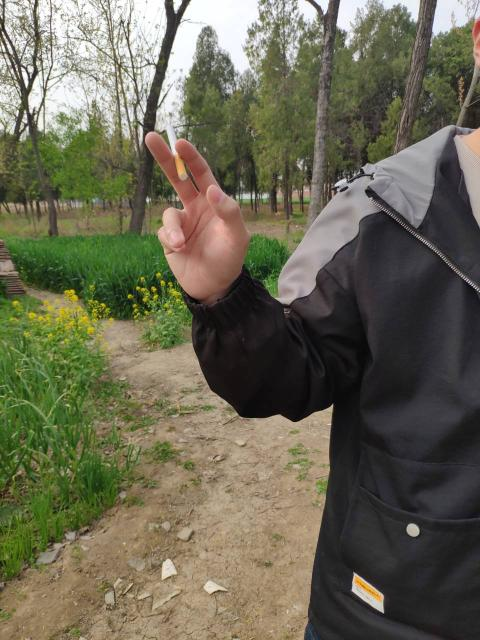Cigarette: (144, 89, 192, 189)
